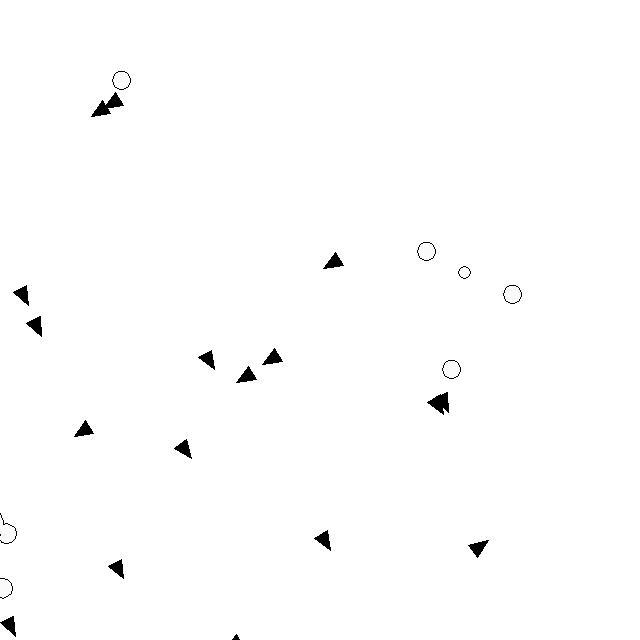Kolodech: (440, 358, 462, 381), (416, 240, 438, 262), (502, 283, 524, 305), (111, 70, 132, 92), (457, 264, 472, 280)
Otmetka: (196, 348, 217, 372), (234, 364, 258, 385), (172, 438, 194, 460), (24, 314, 44, 338), (467, 538, 491, 558), (425, 393, 445, 417), (106, 557, 126, 581), (12, 283, 31, 308), (90, 98, 112, 119), (261, 346, 284, 366), (73, 419, 95, 439), (321, 252, 345, 270), (313, 529, 332, 551), (436, 389, 451, 414), (106, 92, 126, 109)
